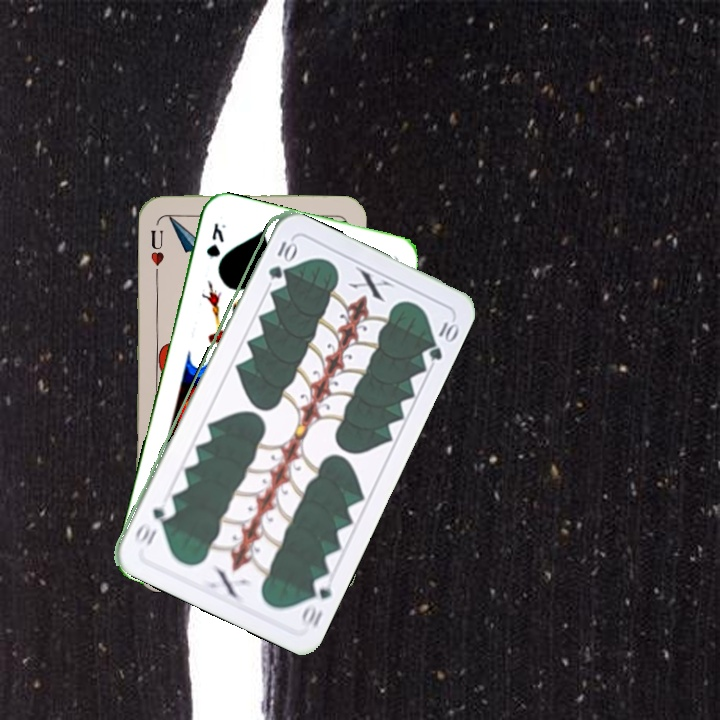G10: (296, 571, 335, 631), (264, 237, 296, 283)
GK: (202, 219, 228, 260)
HU: (146, 225, 166, 276)
